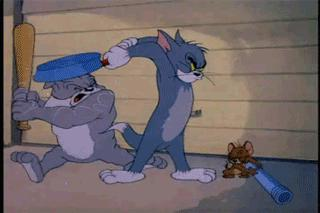tom: (97, 27, 219, 186)
